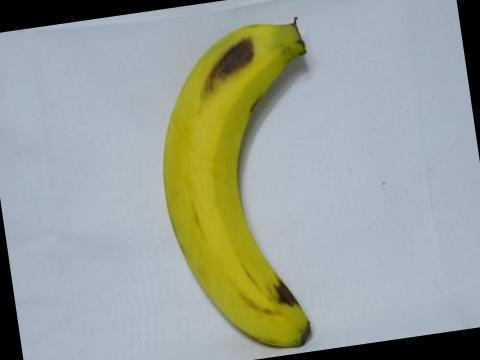freshripe: (149, 9, 340, 359)
